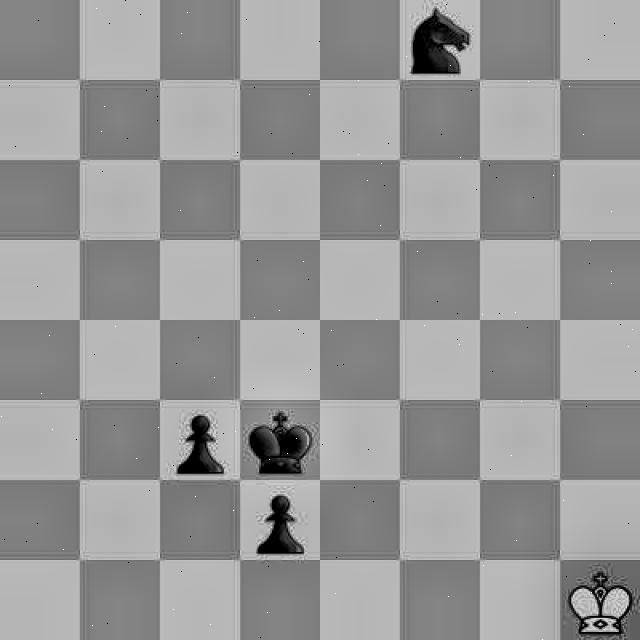Black Knight: (402, 1, 482, 78)
black king: (244, 400, 317, 476)
black pawn: (160, 397, 240, 475), (242, 483, 318, 560)
white king: (570, 558, 634, 632)
